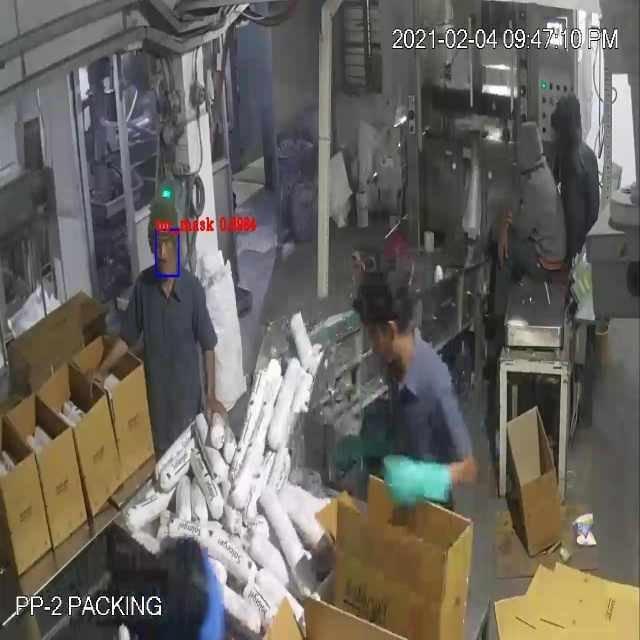Guantes: (376, 442, 458, 524), (326, 434, 395, 484)
Sin_guantes: (186, 321, 230, 441), (76, 324, 124, 394), (496, 203, 512, 286)
